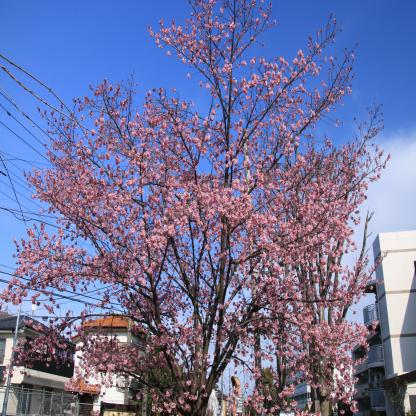KanhiSakura: (0, 0, 392, 416)
